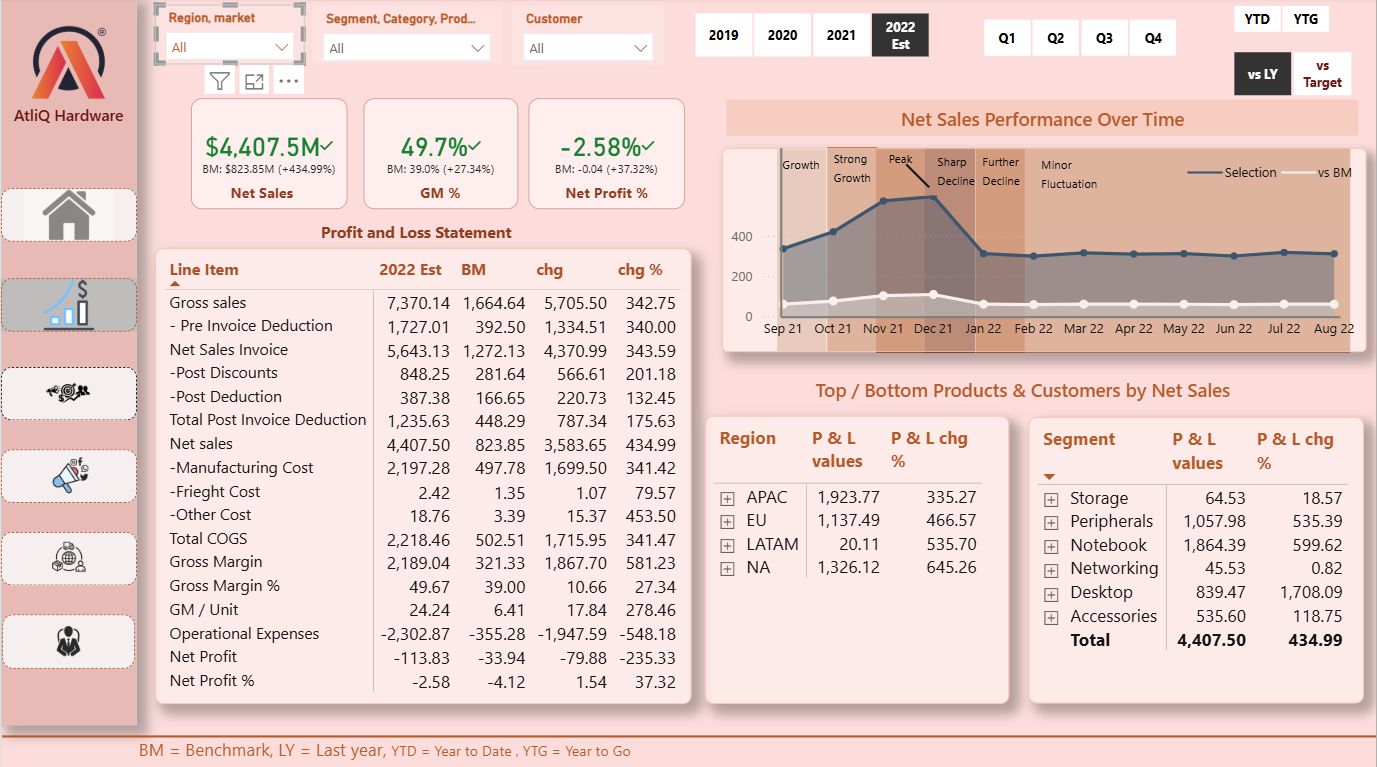

The page's visual inventory and layout, read from the dashboard file:
{"tool":"powerbi","page":{"name":"Finance View","canvas":[1280,720],"ordinal":1},"visuals":[{"type":"slicer","fields":{"Values":["fiscal_year.fy_desc"]},"box":[620.2,8.2,267.6,52.1],"z":0},{"type":"pivotTable","fields":{"Rows":["P & L Rows.Line Item"],"Columns":["P & L columns.Col Header"],"Values":["Key Measures.P & L Final value"]},"box":[142.7,233.3,499.5,424],"z":1000},{"type":"slicer","fields":{"Values":["dim_date.Quarter"]},"box":[887.8,13.7,229.2,48],"z":2000},{"type":"slicer","fields":{"Values":["dim_date.ytd_ytg"]},"box":[1121.1,1.4,138.6,34.3],"z":3000},{"type":"slicer","fields":{"Values":["dim_product.segment","dim_product.category","dim_product.product"]},"box":[289.5,8.2,175.6,53.5],"z":4000},{"type":"slicer","fields":{"Values":["dim_market.region","dim_market.market"]},"box":[142.7,6.9,140,56.3],"z":5000},{"type":"pivotTable","fields":{"Rows":["dim_market.region","dim_market.market","dim_customer.customer"],"Values":["Key Measures.P & L values","Key Measures.P & L YOY Chng %"]},"box":[654.5,389.4,282.8,267.8],"z":6000},{"type":"pivotTable","fields":{"Rows":["dim_product.segment","dim_product.category","dim_product.product"],"Values":["Key Measures.P & L values","Key Measures.P & L YOY Chng %"]},"box":[955.8,390.7,312.3,266.3],"z":7000},{"type":"cardVisual","fields":{"Data":["Key Measures.Performance over title"]},"box":[669.2,90.6,598.9,43.3],"z":8000},{"type":"cardVisual","fields":{"Data":["Key Measures.Top / Bottom N title"]},"box":[642.5,344.6,615.4,39.4],"z":9000},{"type":"textbox","box":[152.6,203.1,467.7,30.8],"z":10000},{"type":"slicer","fields":{"Values":["dim_customer.customer"]},"box":[476.2,8.2,141.3,54.9],"z":11000},{"type":"kpi","fields":{"Indicator":["Key Measures.NS $"],"TrendLine":["dim_date.fiscal_year"],"Goal":["Key Measures.NS BM $"]},"box":[177,94.7,145.5,102.9],"z":12000},{"type":"textbox","box":[188,167.4,108.4,30.2],"z":13000},{"type":"kpi","fields":{"TrendLine":["dim_date.fiscal_year"],"Goal":["Key Measures.GM % BM"],"Indicator":["Key Measures.GM %"]},"box":[337.6,94.7,144.1,102.9],"z":14000},{"type":"textbox","box":[355.4,167.4,109.8,30.2],"z":15000},{"type":"kpi","fields":{"TrendLine":["dim_date.fiscal_year"],"Goal":["Key Measures.NP % BM"],"Indicator":["Key Measures.Net_profit %"]},"box":[491.3,94.7,145.5,102.9],"z":16000},{"type":"textbox","box":[510.5,167.4,109.8,30.2],"z":17000},{"type":"shape","box":[0,0,126.2,677.9],"z":18000},{"type":"image","box":[0,262.1,126.2,49.4],"z":19000},{"type":"image","box":[0,344.4,126.2,49.4],"z":20000},{"type":"image","box":[0,421.3,126.2,49.4],"z":21000},{"type":"image","box":[0,498.1,126.2,49.4],"z":22000},{"type":"image","box":[1.4,575,123.5,50],"z":23000},{"type":"image","box":[0,178.4,126.2,49.4],"z":24000},{"type":"slicer","fields":{"Values":["Set BM.Benchmark"]},"box":[1121.1,43.9,159.2,50.8],"z":25000},{"type":"textbox","box":[123.5,683.4,940,34.3],"z":26000},{"type":"cardVisual","fields":{"Data":["Key Measures.BM Message"]},"box":[142.7,52.1,511.8,45.3],"z":27000},{"type":"shape","box":[1.1,678.7,1278.9,17.6],"z":28000},{"type":"textbox","box":[1.4,94.7,123.5,43.9],"z":29000},{"type":"image","box":[19.2,26.1,87.8,70],"z":30000},{"type":"shape","box":[721.9,142,46,187.9],"z":31000},{"type":"shape","box":[768.4,140,46.7,190.7],"z":32000},{"type":"shape","box":[813.9,140.6,46,190.6],"z":33000},{"type":"shape","box":[859.8,140.6,47.3,190.6],"z":34000},{"type":"shape","box":[907.1,140.6,46,190.6],"z":35000},{"type":"shape","box":[951.8,140.6,302.8,190.6],"z":36000},{"type":"areaChart","fields":{"Category":["dim_date.date"],"Y":["Key Measures.P & L values","Key Measures.P & L BM"]},"box":[670.6,140.6,598.9,189.3],"z":37000},{"type":"textbox","box":[721.9,140.6,56.8,37.9],"z":38000},{"type":"textbox","box":[769.8,134.5,45.3,49.4],"z":39000},{"type":"textbox","box":[820.6,134.5,35.7,38.4],"z":40000},{"type":"shape","box":[834.3,155.1,35.7,23.3],"z":41000},{"type":"textbox","box":[865.9,138.6,48,45.3],"z":42000},{"type":"textbox","box":[908.4,138.6,53.5,54.9],"z":43000},{"type":"textbox","box":[962.6,140.6,64.9,54.1],"z":44000},{"type":"shape","box":[719.2,140.6,12.2,156.8],"z":45000},{"type":"shape","box":[726,288,520.5,18.9],"z":46000}]}

Visuals, with their boxes in screenshot pixels (x1, y1, x2, y2), scaled from the page's 1280x720 canvas onto the 1377x767 screenshot:
slicer - fiscal_year.fy_desc: BBox(667, 9, 955, 64)
pivotTable - P & L Rows.Line Item x P & L columns.Col Header: BBox(154, 249, 691, 700)
slicer - dim_date.Quarter: BBox(955, 15, 1202, 66)
slicer - dim_date.ytd_ytg: BBox(1206, 1, 1355, 38)
slicer - dim_product.segment x dim_product.category: BBox(311, 9, 500, 66)
slicer - dim_market.region x dim_market.market: BBox(154, 7, 304, 67)
pivotTable - dim_market.region x dim_market.market: BBox(704, 415, 1008, 700)
pivotTable - dim_product.segment x dim_product.category: BBox(1028, 416, 1364, 700)
cardVisual - Key Measures.Performance over title: BBox(720, 97, 1364, 143)
cardVisual - Key Measures.Top / Bottom N title: BBox(691, 367, 1353, 409)
textbox: BBox(164, 216, 667, 249)
slicer - dim_customer.customer: BBox(512, 9, 664, 67)
kpi - Key Measures.NS $ x dim_date.fiscal_year: BBox(190, 101, 347, 210)
textbox: BBox(202, 178, 319, 210)
kpi - dim_date.fiscal_year x Key Measures.GM % BM: BBox(363, 101, 518, 210)
textbox: BBox(382, 178, 500, 210)
kpi - dim_date.fiscal_year x Key Measures.NP % BM: BBox(529, 101, 685, 210)
textbox: BBox(549, 178, 667, 210)
shape: BBox(0, 0, 136, 722)
image: BBox(0, 279, 136, 332)
image: BBox(0, 367, 136, 420)
image: BBox(0, 449, 136, 501)
image: BBox(0, 531, 136, 583)
image: BBox(2, 613, 134, 666)
image: BBox(0, 190, 136, 243)
slicer - Set BM.Benchmark: BBox(1206, 47, 1376, 101)
textbox: BBox(133, 728, 1144, 765)
cardVisual - Key Measures.BM Message: BBox(154, 56, 704, 104)
shape: BBox(1, 723, 1376, 742)
textbox: BBox(2, 101, 134, 148)
image: BBox(21, 28, 115, 102)
shape: BBox(777, 151, 826, 351)
shape: BBox(827, 149, 877, 352)
shape: BBox(876, 150, 925, 353)
shape: BBox(925, 150, 976, 353)
shape: BBox(976, 150, 1025, 353)
shape: BBox(1024, 150, 1350, 353)
areaChart - dim_date.date x Key Measures.P & L values: BBox(721, 150, 1366, 351)
textbox: BBox(777, 150, 838, 190)
textbox: BBox(828, 143, 877, 196)
textbox: BBox(883, 143, 921, 184)
shape: BBox(898, 165, 936, 190)
textbox: BBox(932, 148, 983, 196)
textbox: BBox(977, 148, 1035, 206)
textbox: BBox(1036, 150, 1105, 207)
shape: BBox(774, 150, 787, 317)
shape: BBox(781, 307, 1341, 327)
